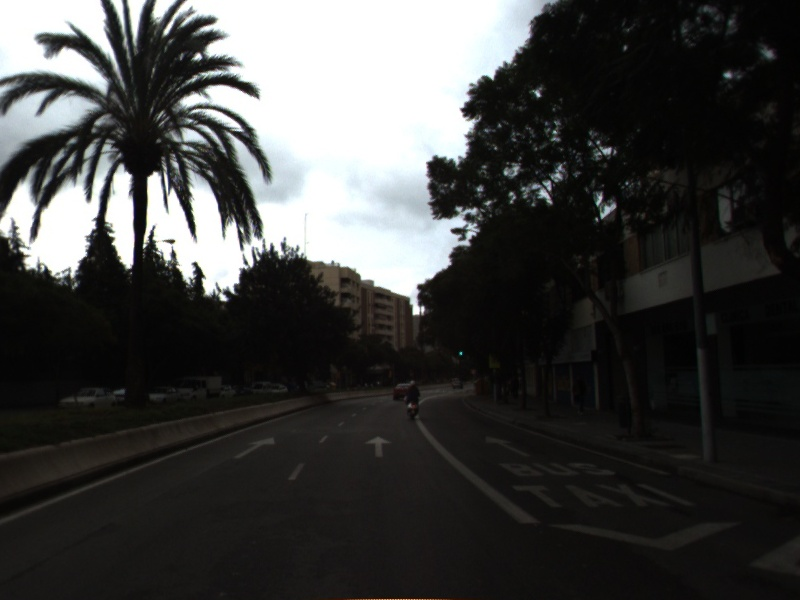STRAIGHT: (231, 434, 277, 460), (484, 434, 533, 458), (363, 434, 394, 459)
